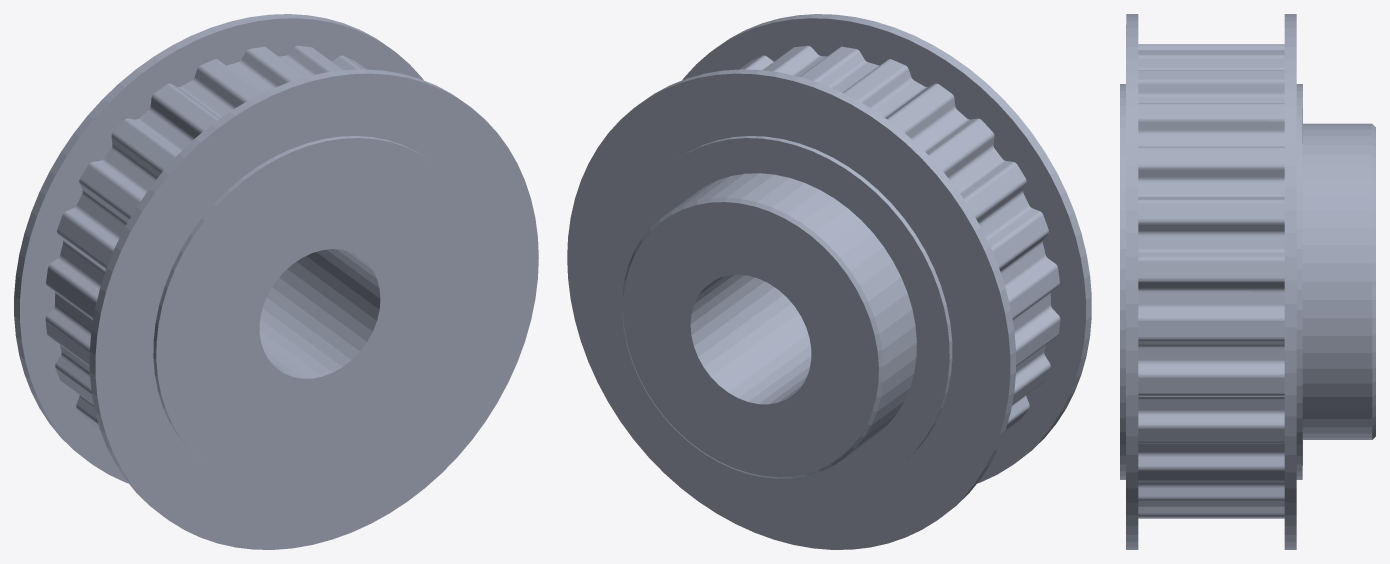
Rendered from zatana_terra_Z_parts_vis_18.dae.
3 renders of one model, left to right at view 1: azimuth 30°, elevation 25°; view 2: azimuth 150°, elevation 25°; view 3: azimuth 270°, elevation 25°, orthographic. The views are drawn at different scales.
Parts seen in each view (by area): view 1: Node_000002318374C7E0; view 2: Node_000002318374C7E0; view 3: Node_000002318374C7E0.
Part boxes in pixels (left/top/right/bottom): Node_000002318374C7E0: left=14, top=14, right=538, bottom=549; Node_000002318374C7E0: left=567, top=14, right=1091, bottom=549; Node_000002318374C7E0: left=1120, top=14, right=1375, bottom=549.
Size of the model in its own units: 0.044 by 0.044 by 0.021.
